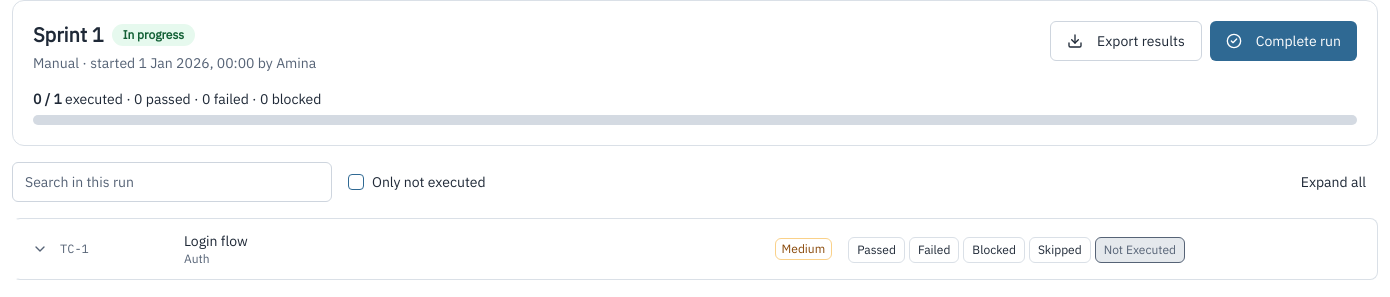
Test: RunExecution › refetches the run when a save is rejected because the run was completed meanwhile
What coordinates should you click on to do the following:
click the radio button labelled "Failed"
I would click on:
 (934, 249)
Its box is [909, 236, 959, 262].
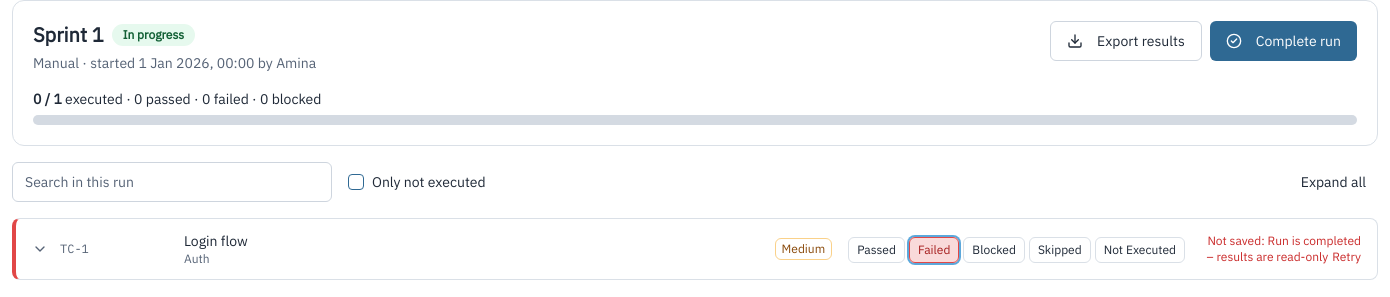
Expected: the radio button labelled "Failed" is checked, [909, 236, 959, 262]
Expected: the text "Not saved: Run is completed – results are read-only Retry" is shown, [1201, 233, 1361, 265]
